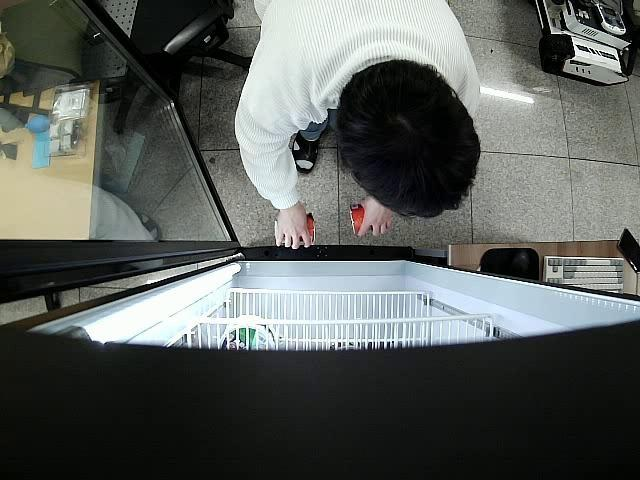02_shinRamen_S: (274, 212, 316, 246), (347, 202, 364, 235)
